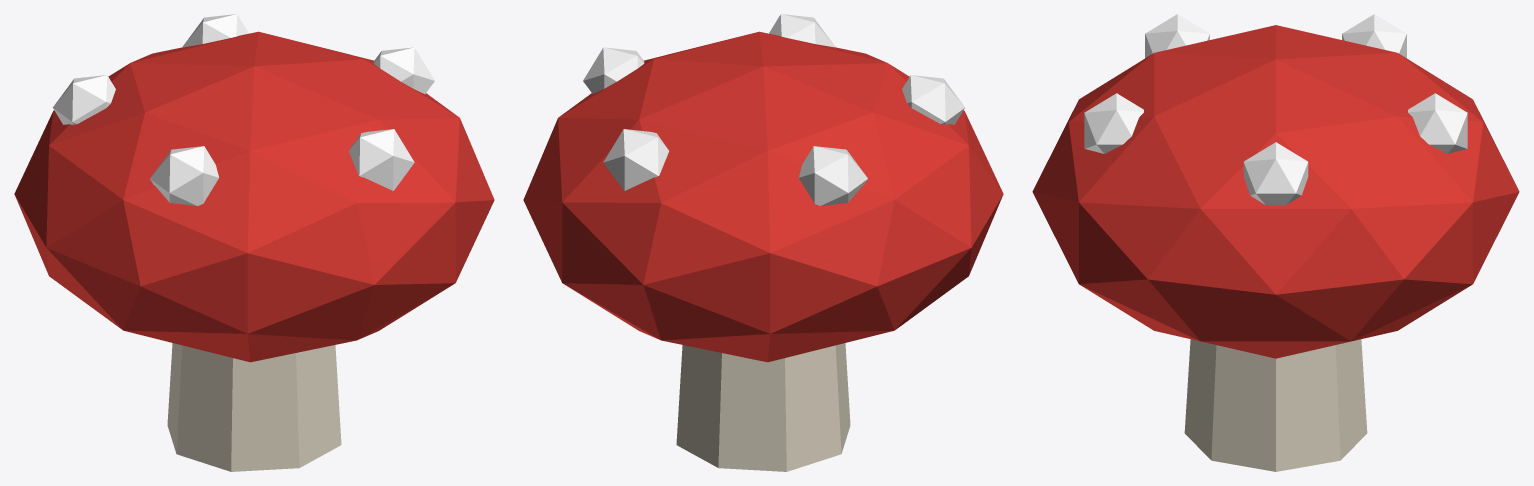
Rendered from mushroom.glb.
The picture shows the model from 3 angles, left to right: view 1: azimuth 30°, elevation 25°; view 2: azimuth 150°, elevation 25°; view 3: azimuth 270°, elevation 25°; orthographic projection.
Size of the model in its own units: 0.64 by 0.542 by 0.64.
